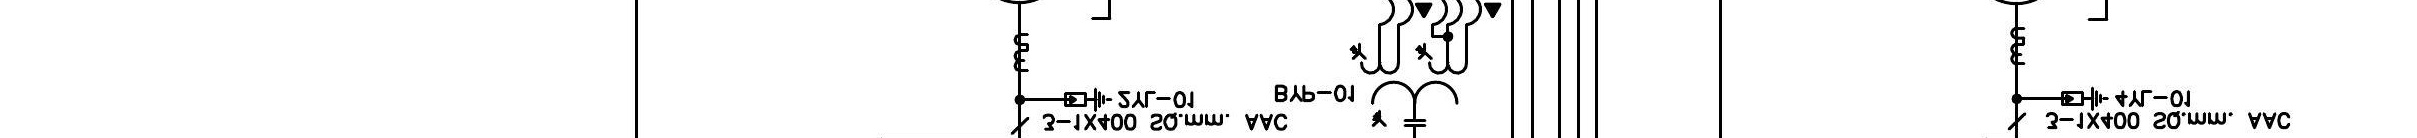115_cvt_3p: (1349, 41, 1469, 127)
115_la: (2061, 86, 2110, 112), (1064, 87, 1113, 112)
